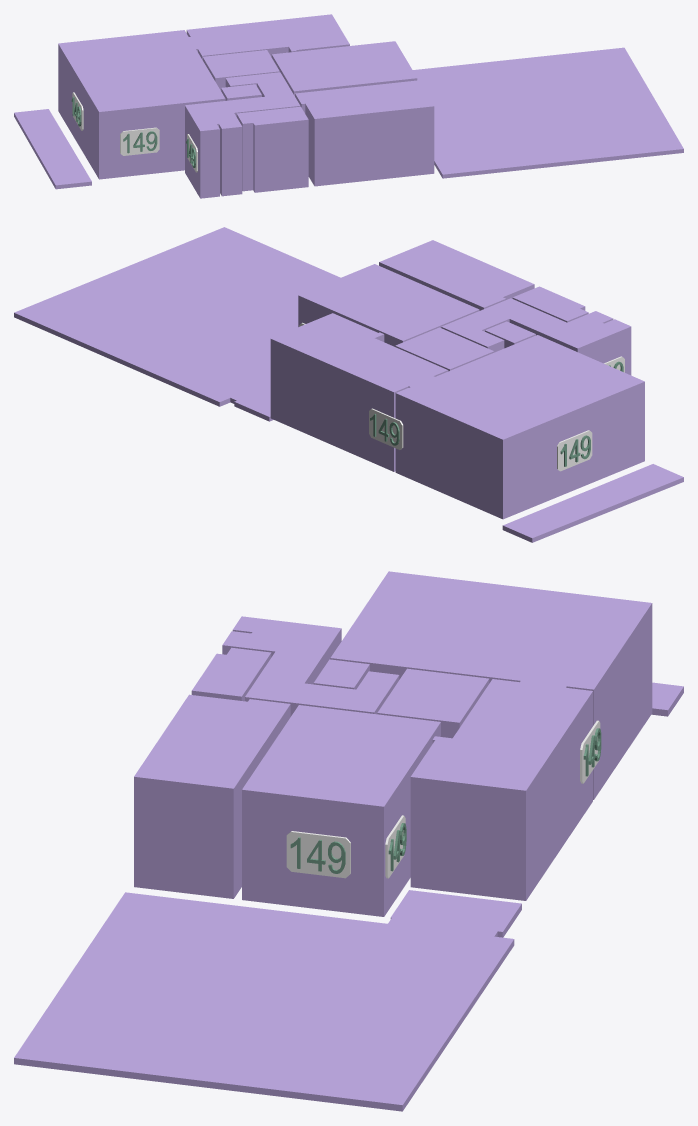
3 views of the same model, one above another, from view 1: azimuth 30°, elevation 25°; view 2: azimuth 150°, elevation 25°; view 3: azimuth 270°, elevation 25° (orthographic). The views are drawn at different scales.
Visible parts, largest first — view 1: g_9, g_7, g_0, g_5, g_6, g_1, g_2, g_8, g_3, g_17, g_4; view 2: g_7, g_9, g_2, g_1, g_5, g_0, g_8, g_3, g_6, g_13, g_25, g_4; view 3: g_9, g_7, g_2, g_1, g_0, g_5, g_3, g_6, g_29, g_4, g_8.
Boxes of the visible parts, x1,y1,x2,y2 form: g_9: (413,47,683,178); g_7: (58,30,225,179); g_0: (295,80,434,186); g_5: (185,72,300,198); g_6: (236,106,308,192); g_1: (271,41,417,95); g_2: (186,14,349,59); g_8: (14,109,91,189); g_3: (202,50,279,90); g_17: (120,127,159,155); g_4: (221,84,261,100); g_7: (395,335,644,519); g_9: (14,227,340,421); g_2: (270,313,448,471); g_1: (298,264,479,346); g_5: (441,298,631,375); g_0: (379,240,534,310); g_8: (502,464,683,542); g_3: (395,327,494,371); g_6: (512,286,588,322); g_13: (369,408,403,449); g_25: (557,430,592,471); g_4: (485,321,535,348); g_9: (14,890,521,1111); g_7: (330,571,652,799); g_2: (410,679,592,900); g_1: (242,705,440,916); g_0: (134,694,290,898); g_5: (222,616,399,716); g_3: (377,668,489,738); g_6: (191,647,271,701); g_29: (286,831,350,878); g_4: (313,659,369,689); g_8: (651,682,683,716).
Bounding box in the file's own units: 22.69 × 2.74 × 14.17.
